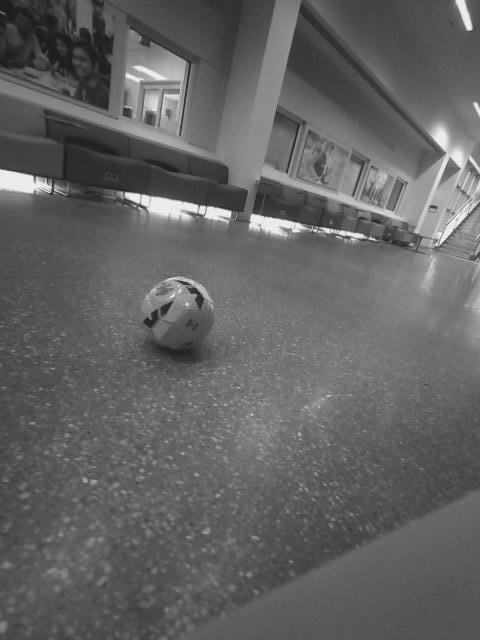ball: (143, 276, 215, 350)
